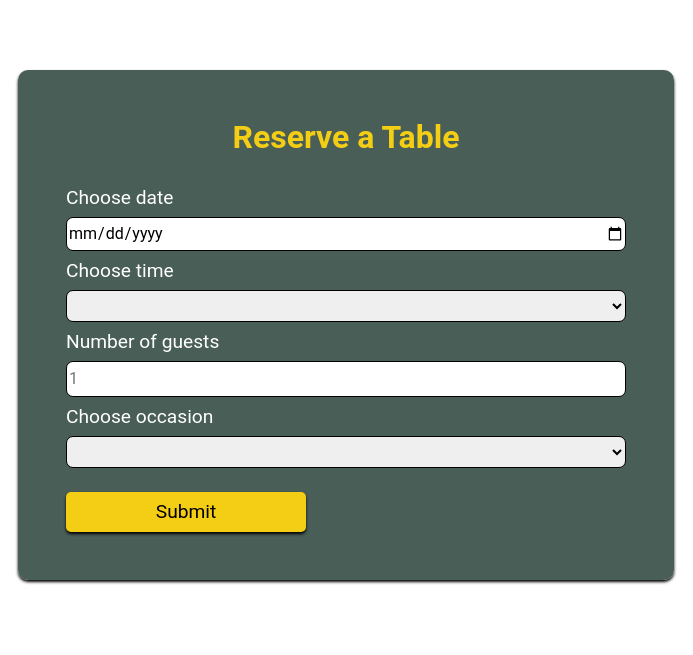
Test: Time validation [All Invalid] › required
Select "" in the dropdown labelled "Choose time" at (346, 306), box [66,290,626,322]
Click the button.
click(186, 512)  # box [66,492,306,532]
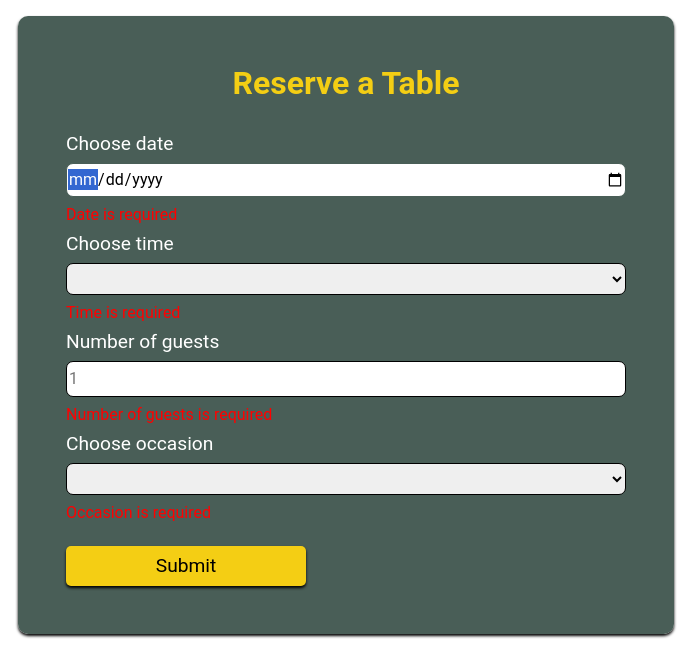
Expected: the text with test id "time-error" reads "Time is required", [66,303,180,322]
